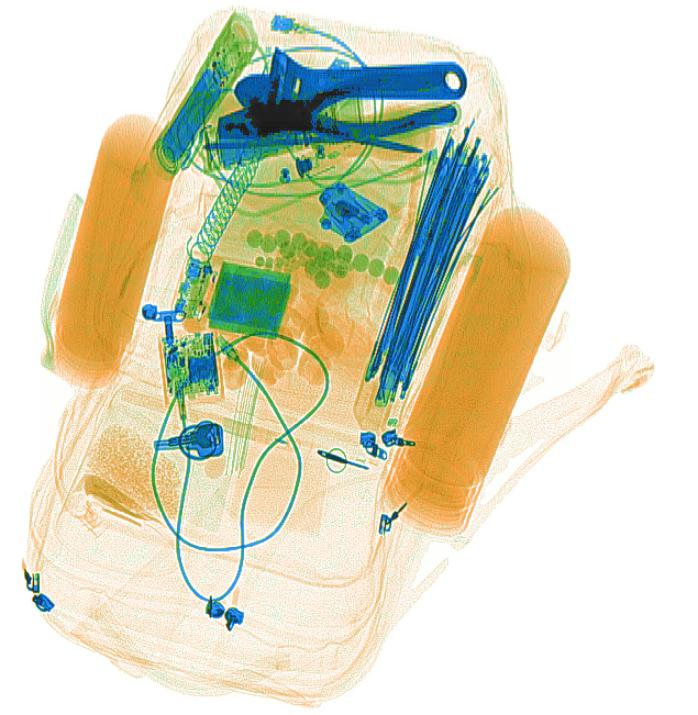battery: (160, 65, 226, 167)
